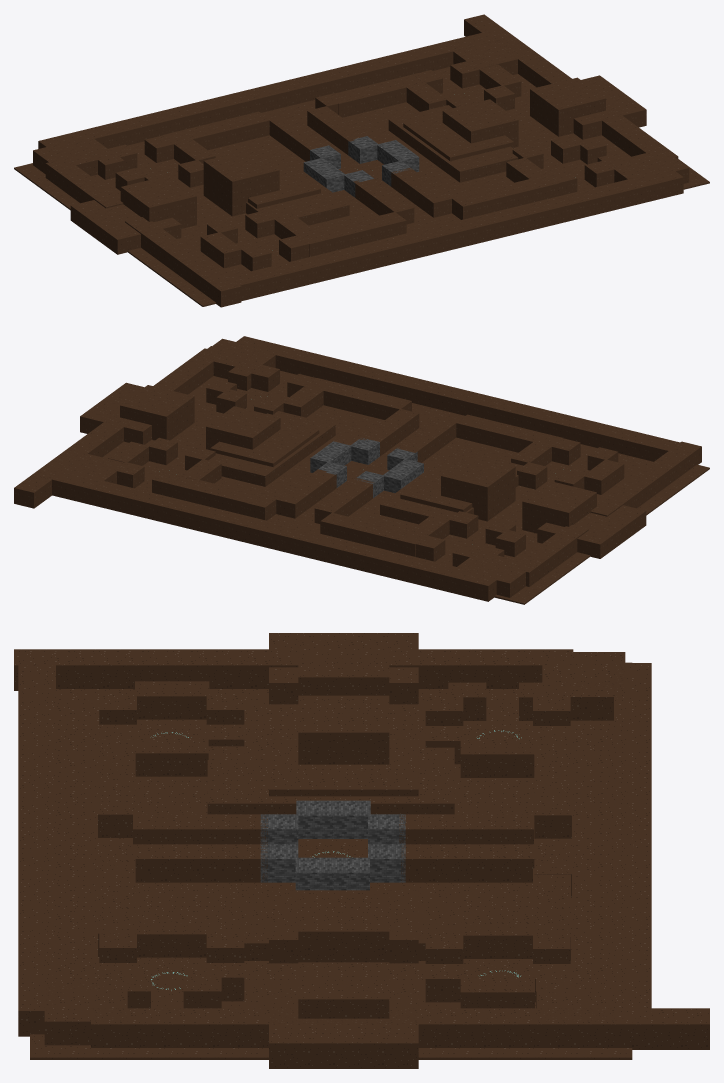
File: concept.gltf
The picture shows the model from 3 angles, top to bottom: view 1: azimuth 30°, elevation 25°; view 2: azimuth 150°, elevation 25°; view 3: azimuth 270°, elevation 25°; orthographic projection. The views are drawn at different scales.
Visible parts, largest first — view 1: Cube (×46); view 2: Cube (×51); view 3: Cube (×66).
Part boxes in pixels (x1,y1,x2,y2): Cube (×46): (14, 14, 709, 307); Cube (×51): (14, 336, 709, 604); Cube (×66): (14, 633, 709, 1068).
Bounding box in the file's own units: 2375 × 155 × 1695.
79 materials, 79 textured.
